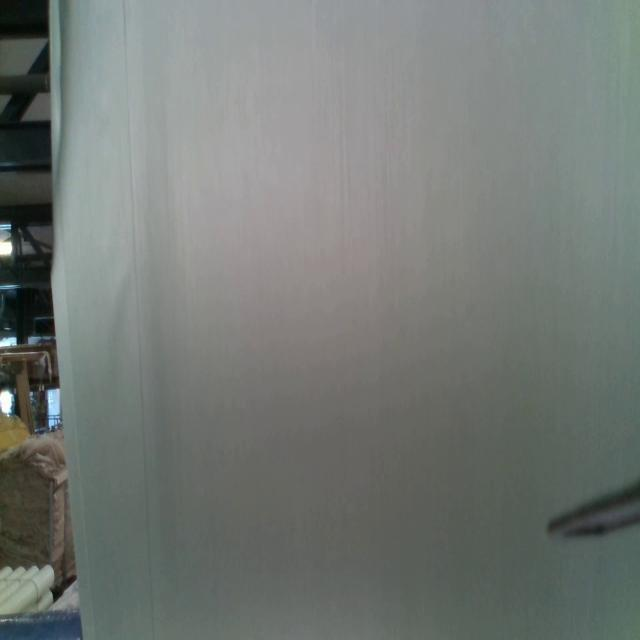crease: (122, 0, 156, 640)
